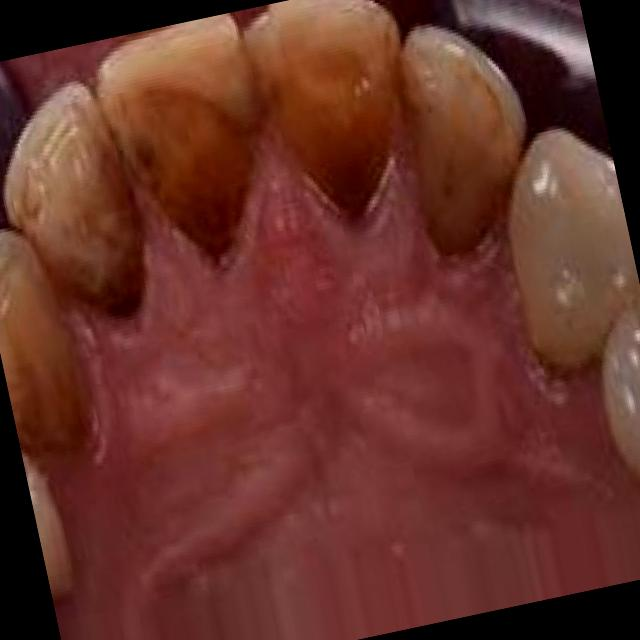calculus: (107, 11, 292, 288), (377, 15, 548, 292), (245, 0, 429, 239), (32, 76, 156, 322), (0, 252, 98, 460)
